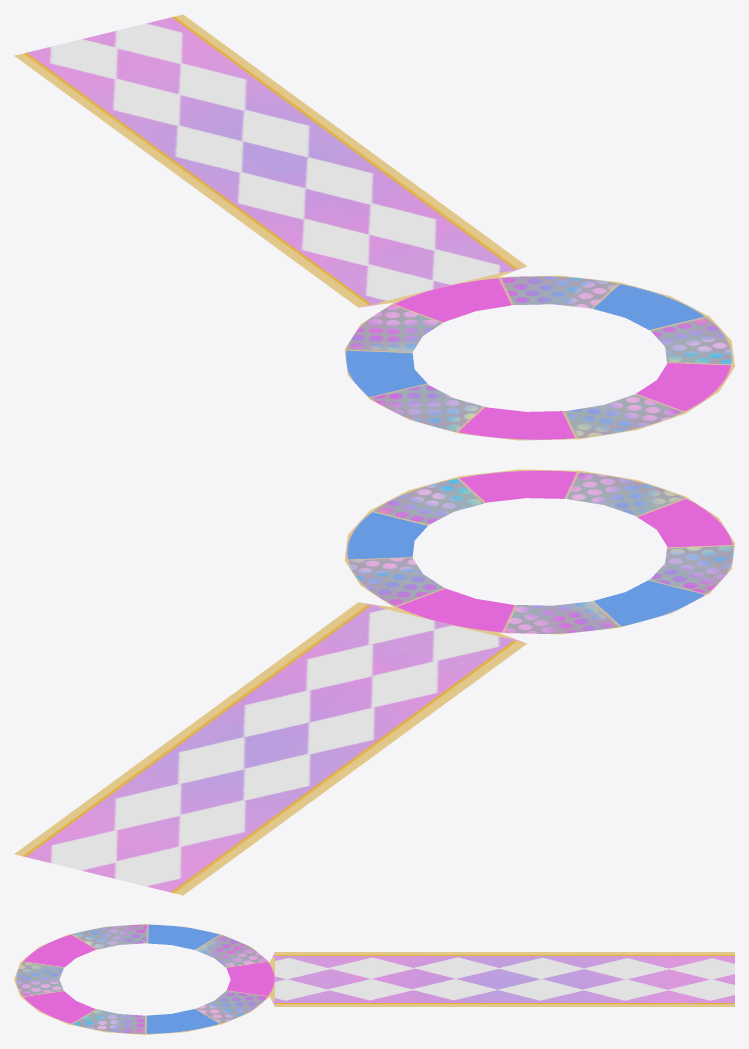
The model's file is StageLoadFloor.fbx.
The picture shows the model from 3 angles, top to bottom: view 1: azimuth 30°, elevation 25°; view 2: azimuth 150°, elevation 25°; view 3: azimuth 270°, elevation 25°; orthographic projection. The views are drawn at different scales.
Parts seen in each view (by area): view 1: StageLoadFloor; view 2: StageLoadFloor; view 3: StageLoadFloor.
Part boxes in pixels (left/top/right/bottom): StageLoadFloor: left=14, top=14, right=734, bottom=440; StageLoadFloor: left=14, top=469, right=734, bottom=895; StageLoadFloor: left=14, top=924, right=734, bottom=1034.
Size of what is drawn, in the model's own units: 687 by 0 by 1888.
